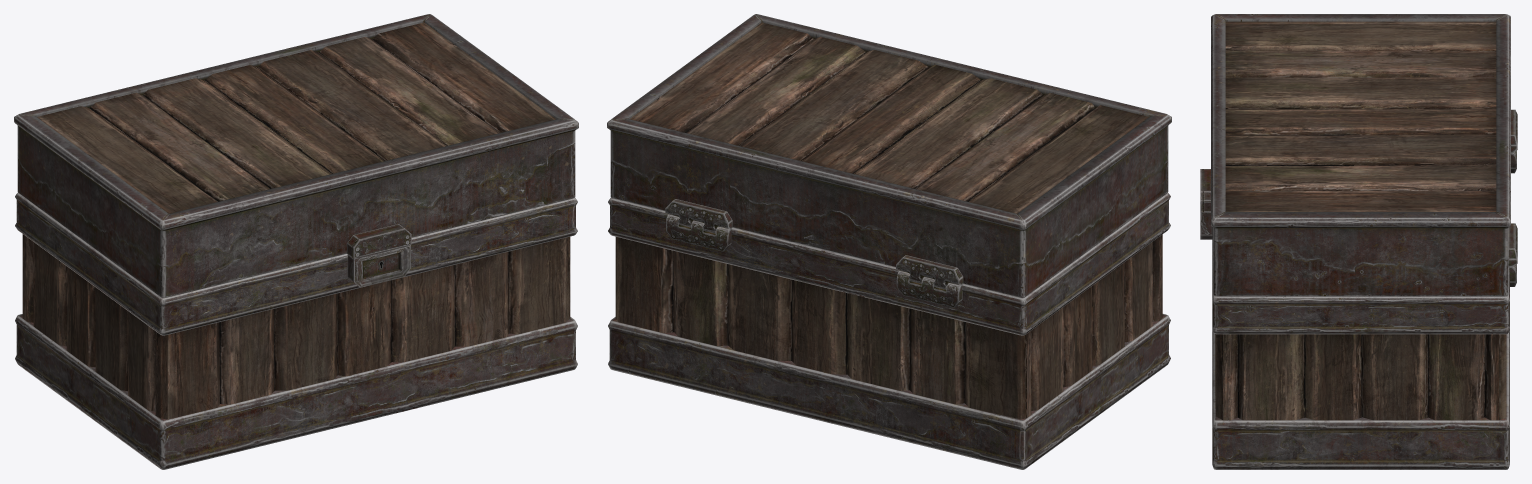
Rendered from fantasy_chest04.glb.
3 views of the same model, side by side, from view 1: azimuth 30°, elevation 25°; view 2: azimuth 150°, elevation 25°; view 3: azimuth 270°, elevation 25° (orthographic).
Parts seen in each view (by area): view 1: Lid:004, Chest:004; view 2: Lid:004, Chest:004; view 3: Lid:004, Chest:004.
Part boxes in pixels (left/top/right/bottom): Lid:004: left=14, top=14, right=578, bottom=298; Chest:004: left=15, top=192, right=577, bottom=469; Lid:004: left=607, top=14, right=1171, bottom=298; Chest:004: left=608, top=193, right=1170, bottom=469; Lid:004: left=1200, top=14, right=1517, bottom=296; Chest:004: left=1200, top=151, right=1516, bottom=469.
Bounding box in the file's own units: 1.25 × 0.7093 × 0.8099.
1 material, 1 textured.
